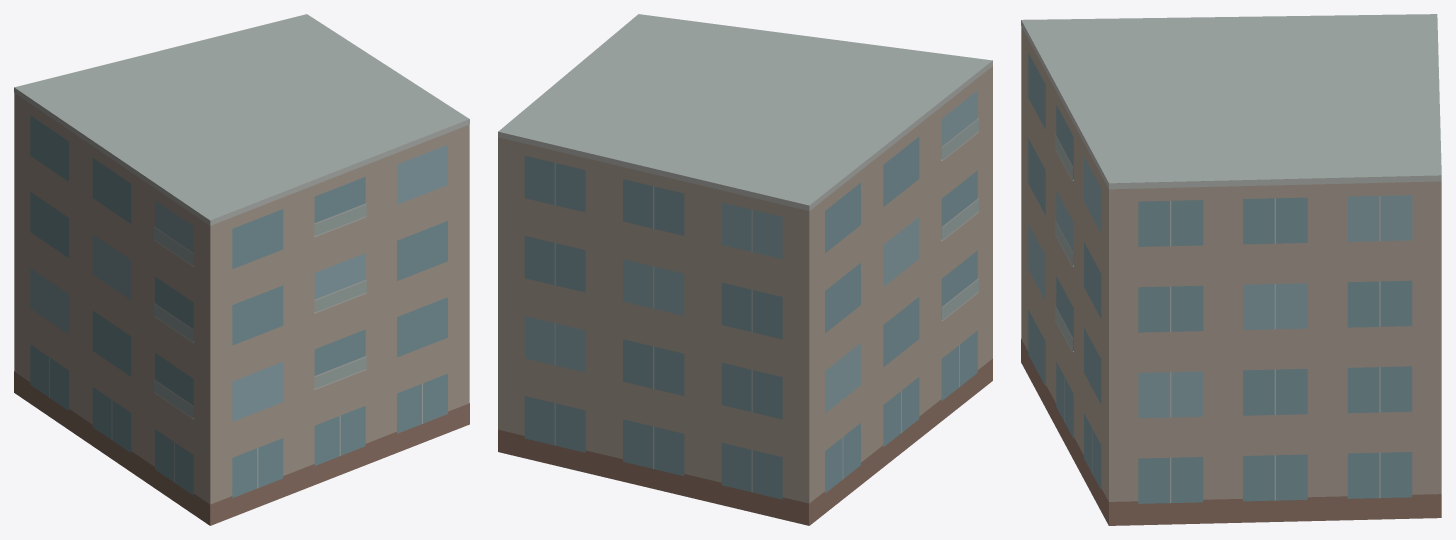
Rendered from survey-upis-32505451.glb.
3 views of the same model, side by side, from view 1: azimuth 30°, elevation 25°; view 2: azimuth 150°, elevation 25°; view 3: azimuth 270°, elevation 25° (orthographic). The views are drawn at different scales.
Parts seen in each view (by area): view 1: survey-upis-32505451.tmp; view 2: survey-upis-32505451.tmp; view 3: survey-upis-32505451.tmp.
Boxes of the visible parts, x1,y1,x2,y2 form: survey-upis-32505451.tmp: (14, 14, 469, 525); survey-upis-32505451.tmp: (498, 14, 992, 525); survey-upis-32505451.tmp: (1021, 14, 1441, 525).
Bounding box in the file's own units: 14.76 × 13.92 × 15.5.
